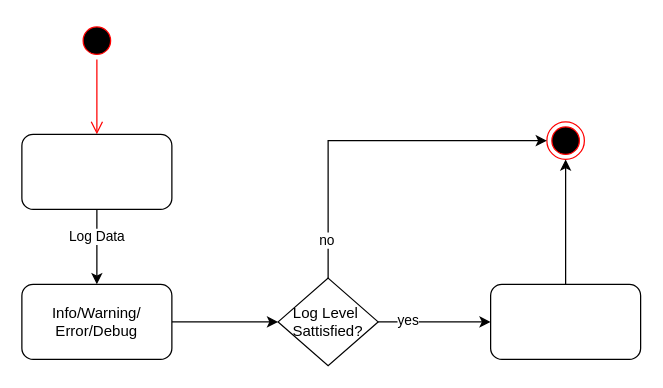
Image size: 663x388. Some labels were removed from this diagram. Here are the shapes that lost their labels. From the top down, the centre of each, then its label:
point (96, 171): Log Instance
point (565, 321): Output (CLI/JSON file/Text file)
